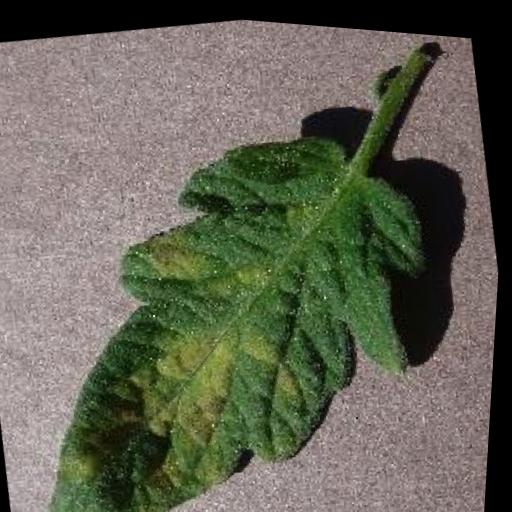Leaf Mold: (0, 92, 478, 512)
